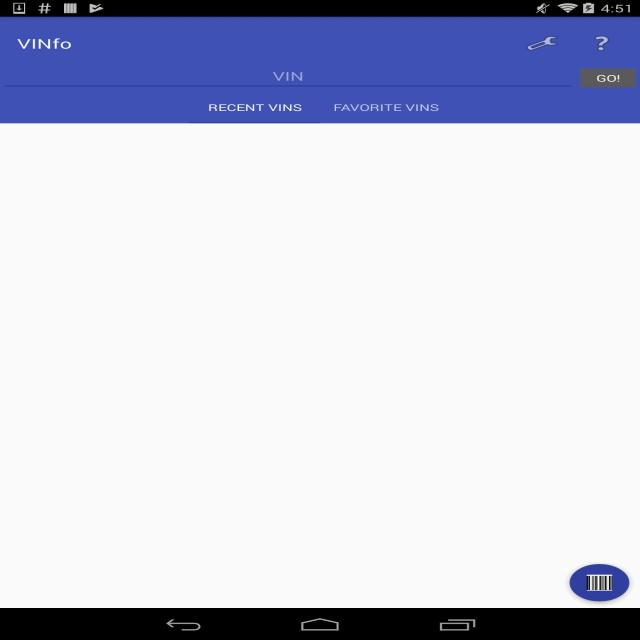button: (190, 96, 312, 123), (329, 96, 447, 121), (570, 564, 628, 603), (586, 68, 632, 86), (585, 30, 619, 53), (527, 32, 564, 52)
heading: (14, 32, 76, 55), (256, 65, 321, 85)
